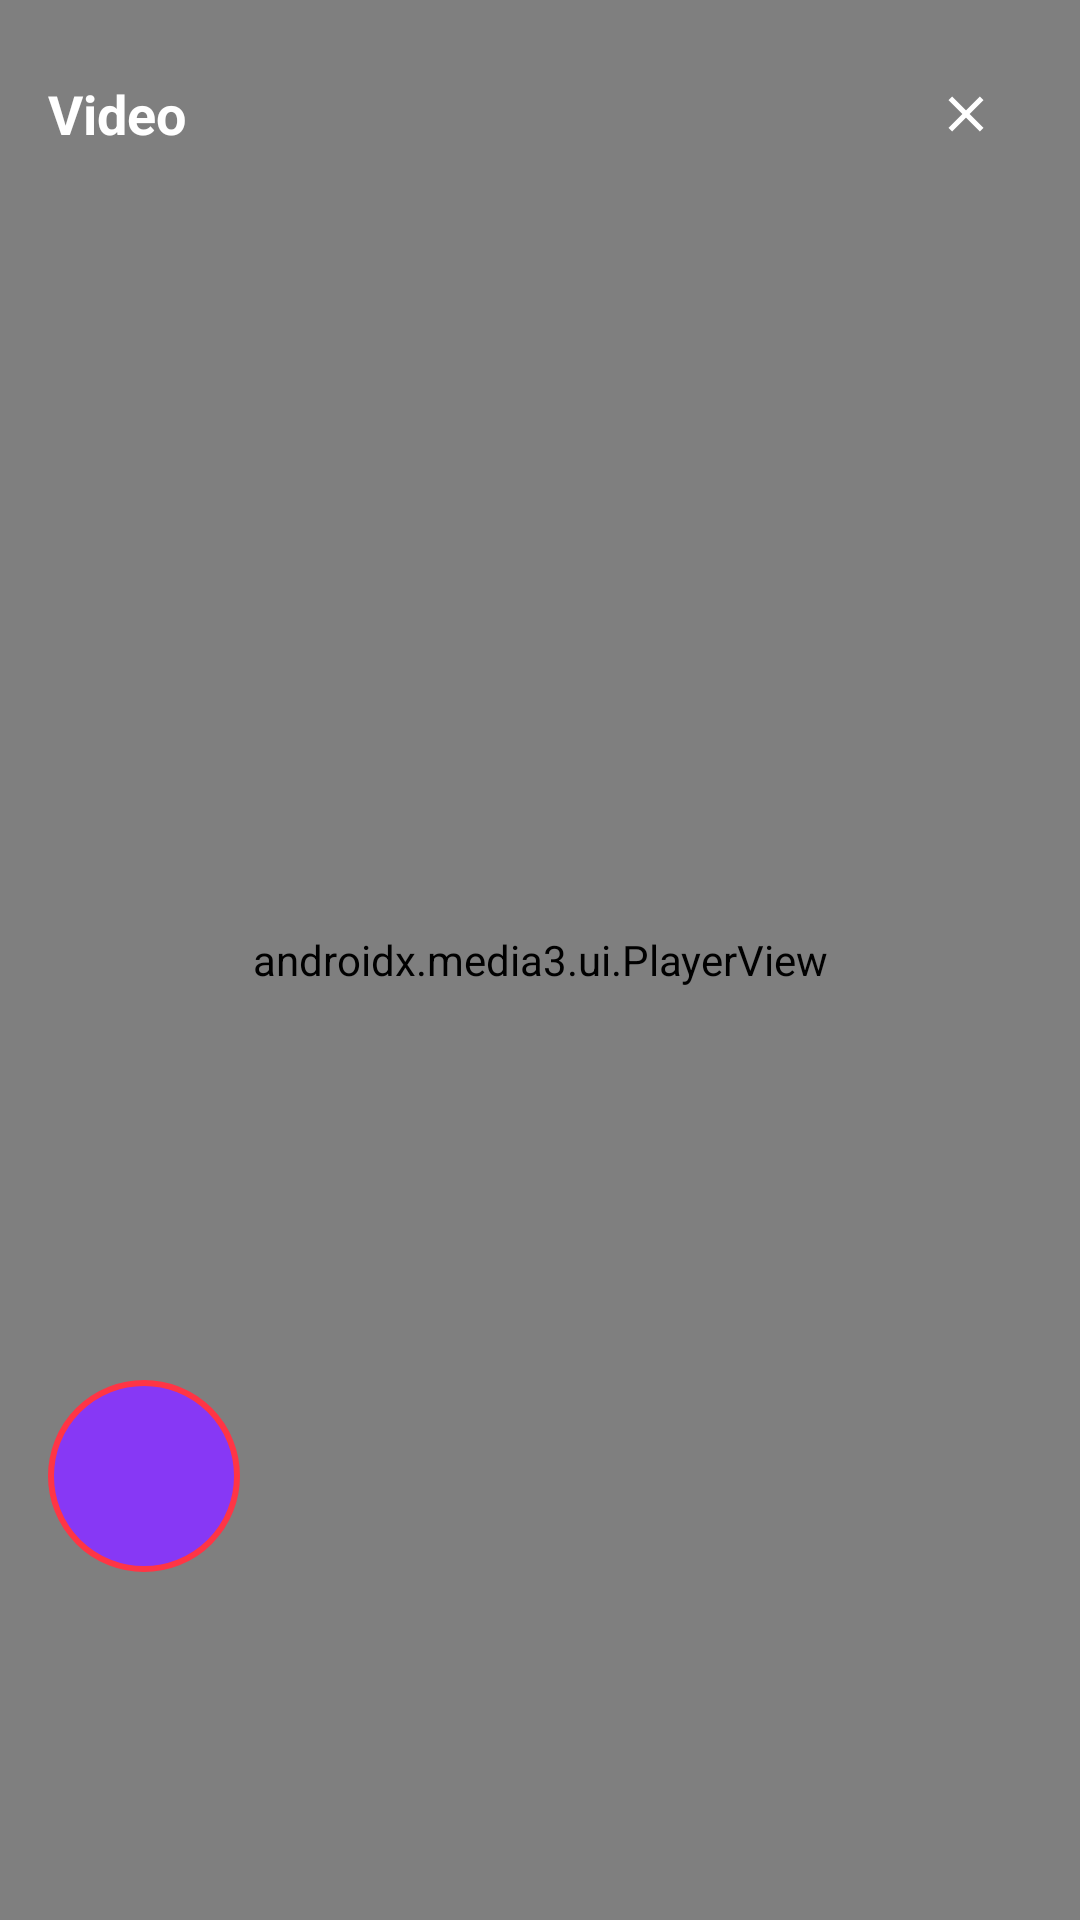

Where to tap for icons on this 1080 × 1920 app screen, as [x,y]:
Cerrar reproductor: [966,114]
